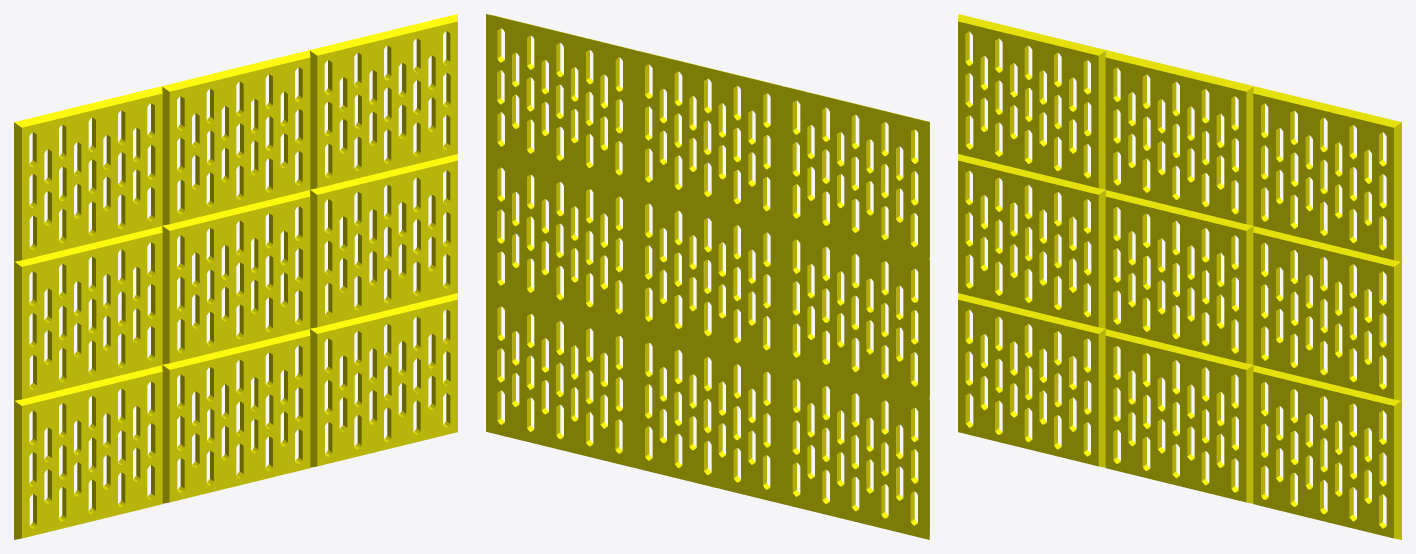
The model's file is Platform2.fbx.
The picture shows the model from 3 angles, left to right: view 1: azimuth 30°, elevation 25°; view 2: azimuth 150°, elevation 25°; view 3: azimuth 330°, elevation 25°; orthographic projection.
Visible parts, largest first — view 1: PlatformTiles; view 2: PlatformTiles; view 3: PlatformTiles.
Boxes of the visible parts, x1,y1,x2,y2 form: PlatformTiles: [14, 14, 457, 539]; PlatformTiles: [486, 14, 929, 539]; PlatformTiles: [958, 14, 1401, 539].
Size of what is drawn, in the model's own units: 6007 by 5406 by 95.99.
